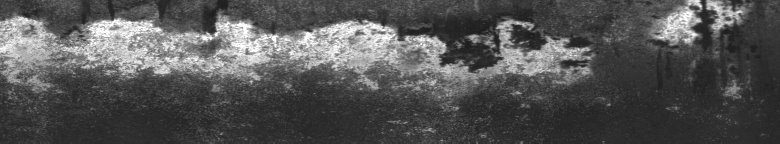kb: (4, 4, 752, 136)
